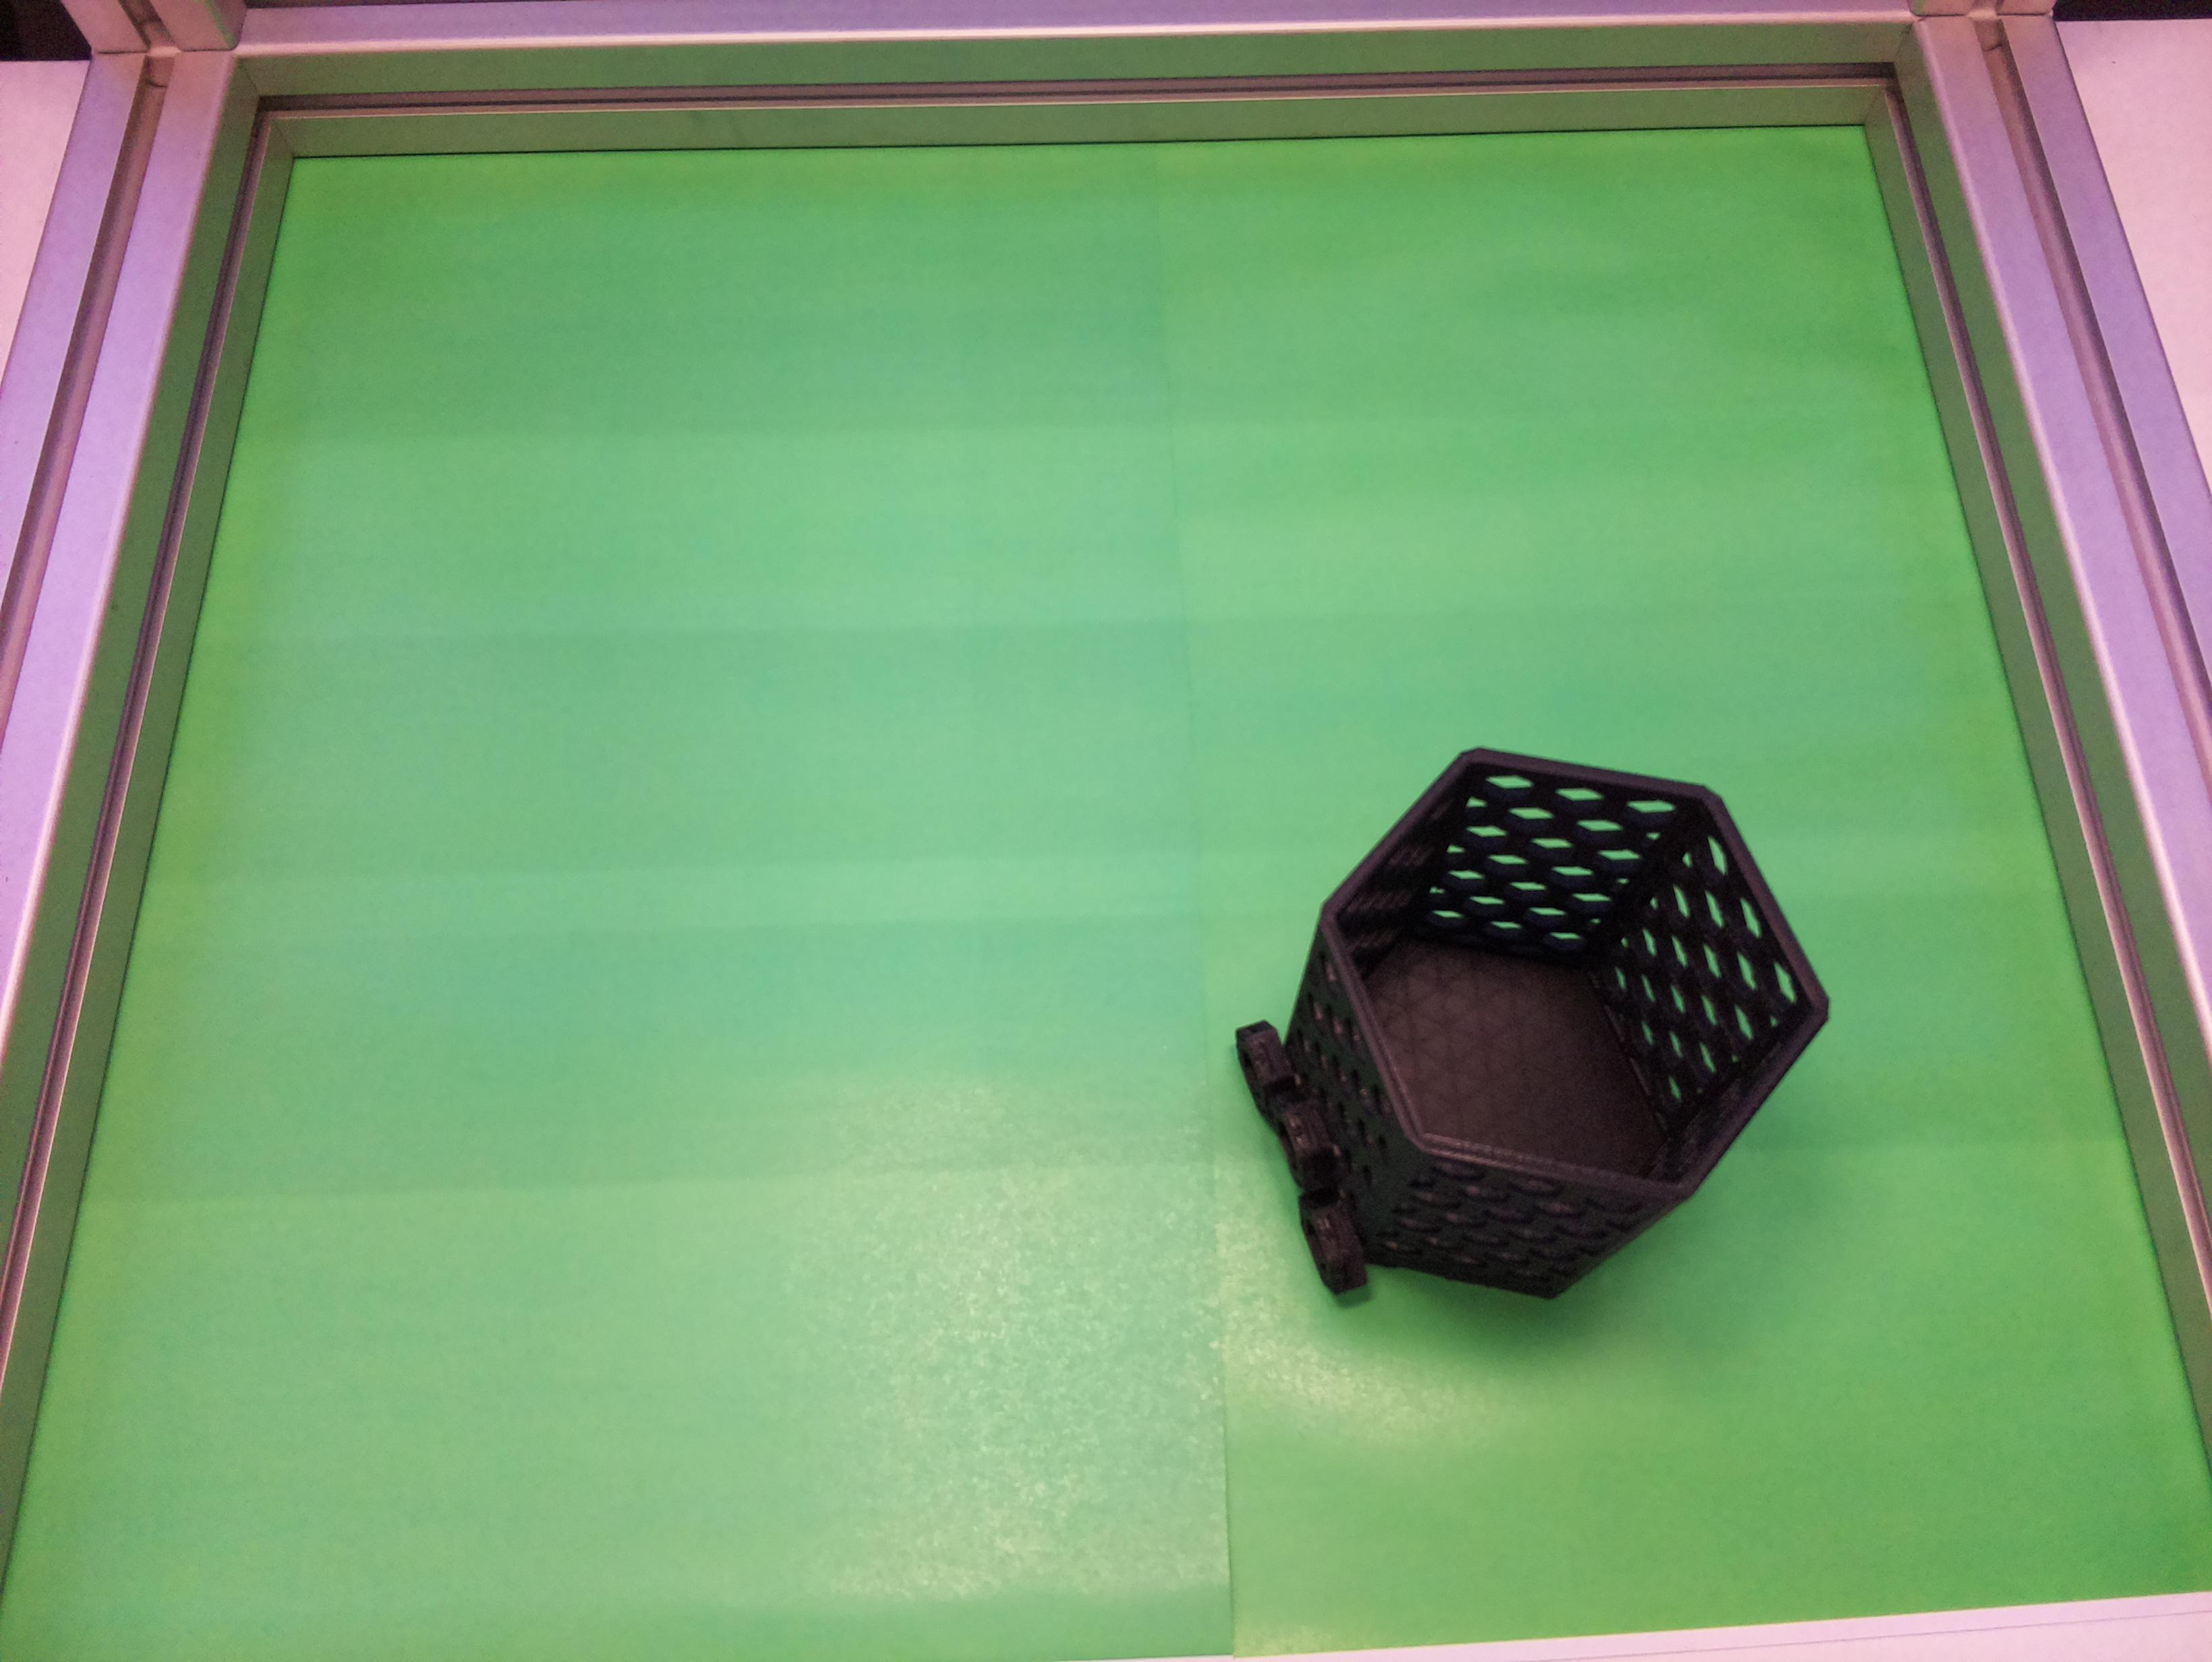cup_holder: (1135, 649, 1901, 1428)
